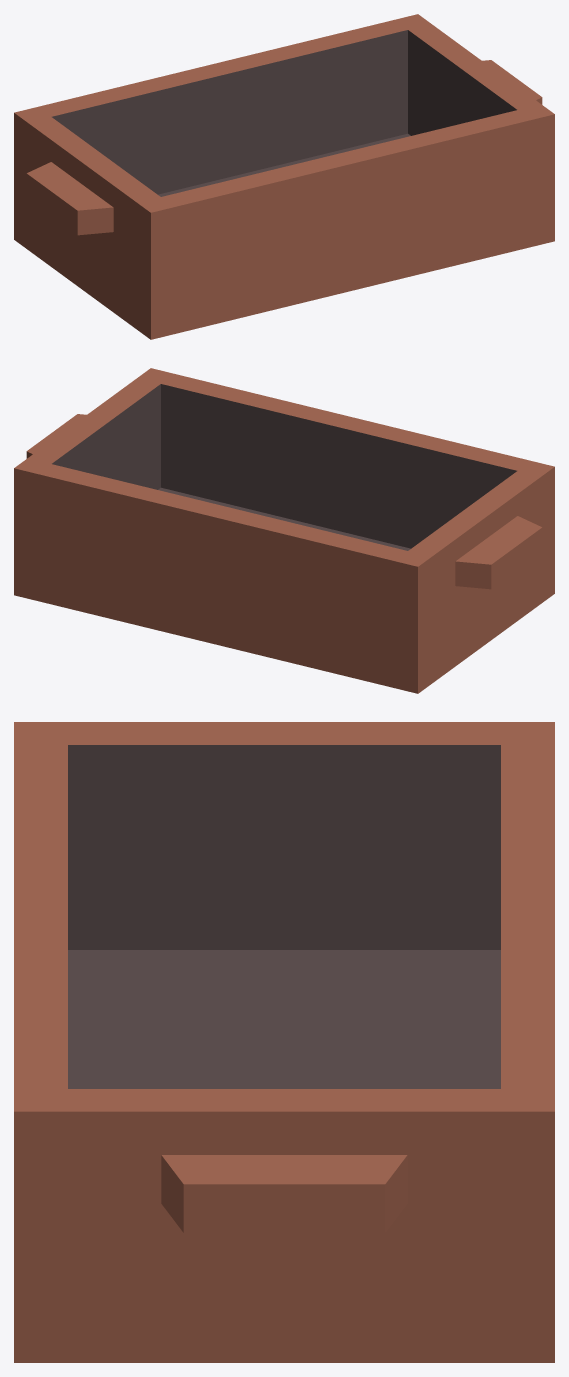
The model's file is TB_Prop_Box_B.FBX.
The picture shows the model from 3 angles, top to bottom: view 1: azimuth 30°, elevation 25°; view 2: azimuth 150°, elevation 25°; view 3: azimuth 270°, elevation 25°; orthographic projection. The views are drawn at different scales.
Parts seen in each view (by area): view 1: TB_Prop_Box_B; view 2: TB_Prop_Box_B; view 3: TB_Prop_Box_B.
Part boxes in pixels (x1,y1,x2,y2): TB_Prop_Box_B: [14, 14, 554, 339]; TB_Prop_Box_B: [14, 368, 554, 693]; TB_Prop_Box_B: [14, 722, 554, 1362].
Bounding box in the file's own units: 1.25 × 0.3255 × 0.6357.
